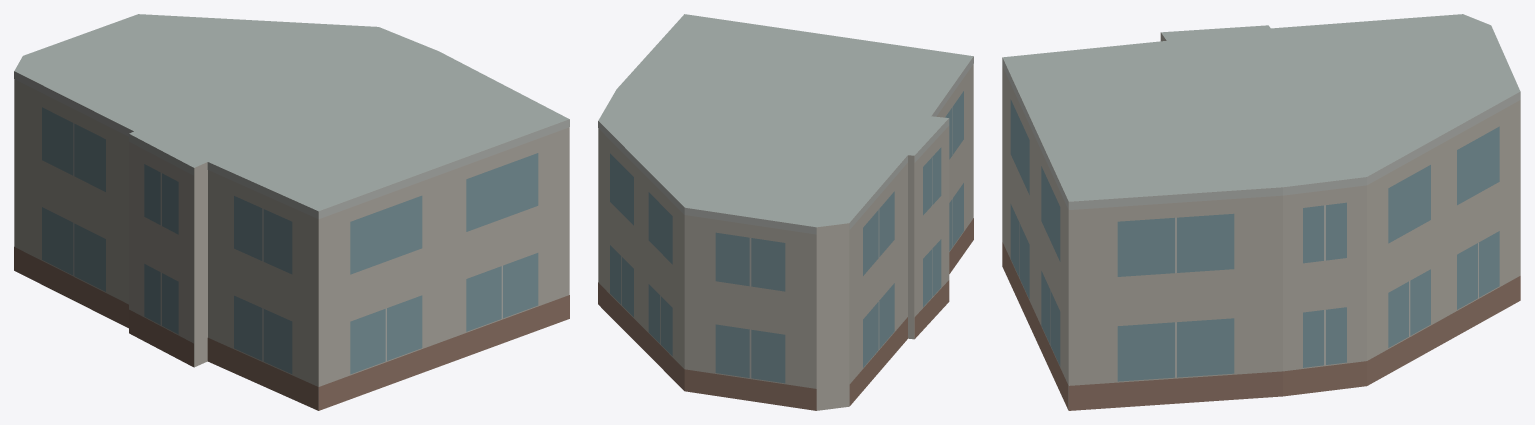
File: survey-upis-32550226.glb
3 views of the same model, side by side, from view 1: azimuth 30°, elevation 25°; view 2: azimuth 150°, elevation 25°; view 3: azimuth 270°, elevation 25° (orthographic). The views are drawn at different scales.
Parts seen in each view (by area): view 1: survey-upis-32550226.tmp; view 2: survey-upis-32550226.tmp; view 3: survey-upis-32550226.tmp.
Part boxes in pixels (x1=…): survey-upis-32550226.tmp: x1=14, y1=14, x2=569, y2=410; survey-upis-32550226.tmp: x1=598, y1=14, x2=973, y2=410; survey-upis-32550226.tmp: x1=1002, y1=14, x2=1520, y2=410.
Bounding box in the file's own units: 11.76 × 6.1 × 13.71.
